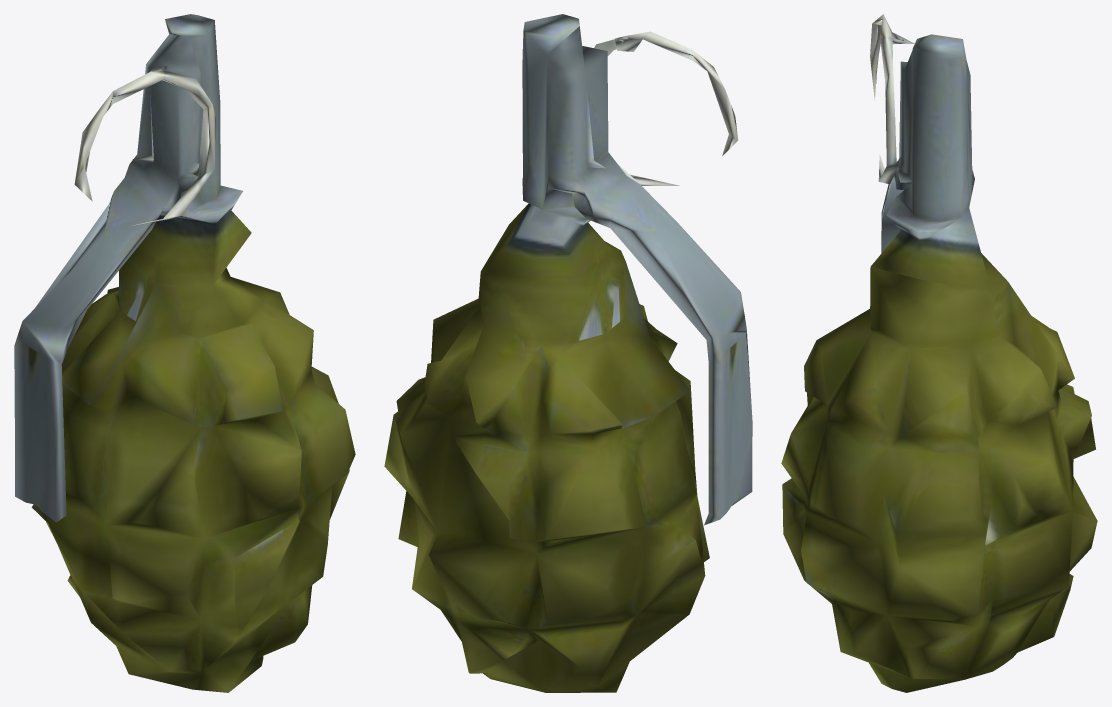
File: grenade.min.glb
The picture shows the model from 3 angles, left to right: view 1: azimuth 30°, elevation 25°; view 2: azimuth 150°, elevation 25°; view 3: azimuth 270°, elevation 25°; orthographic projection. The views are drawn at different scales.
Parts seen in each view (by area): view 1: tripo_node_df47355e-1f70-48b3-9f67-2dc39f8e684b; view 2: tripo_node_df47355e-1f70-48b3-9f67-2dc39f8e684b; view 3: tripo_node_df47355e-1f70-48b3-9f67-2dc39f8e684b.
Part boxes in pixels (x1,y1,x2,y2): tripo_node_df47355e-1f70-48b3-9f67-2dc39f8e684b: [14, 14, 355, 692]; tripo_node_df47355e-1f70-48b3-9f67-2dc39f8e684b: [384, 14, 752, 692]; tripo_node_df47355e-1f70-48b3-9f67-2dc39f8e684b: [781, 14, 1097, 692].
Size of the model in its own units: 0.4967 by 0.9999 by 0.4514.
Materials: 1 (1 with a texture image).
